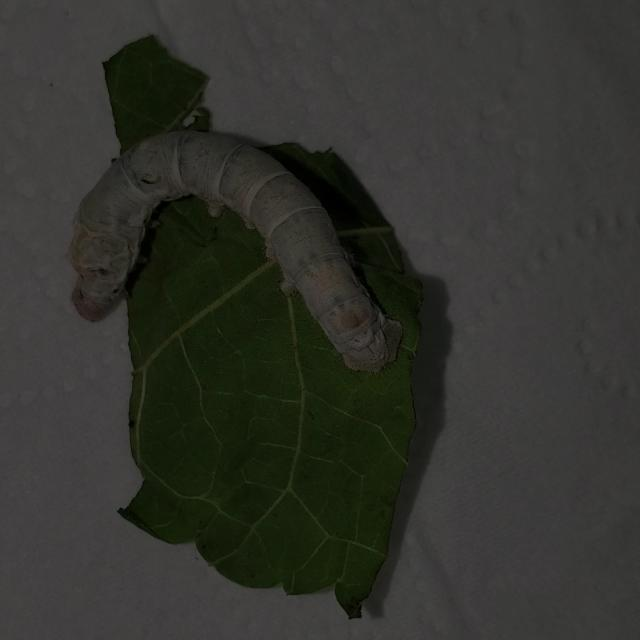Healthy: (59, 106, 410, 402)
